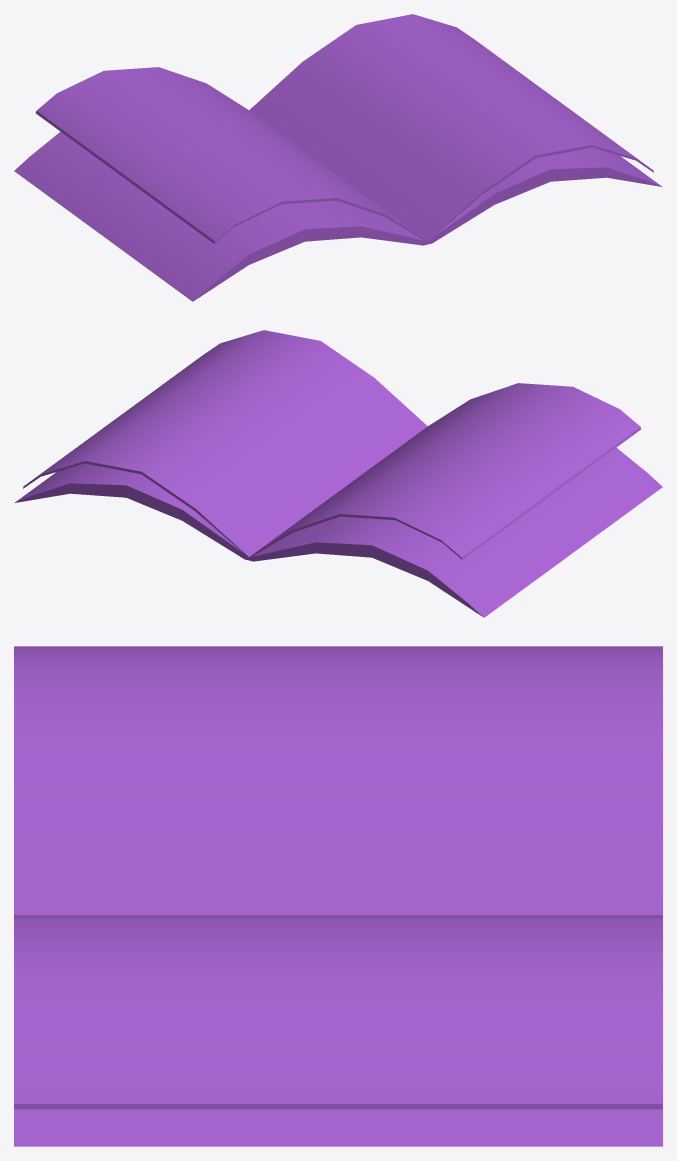
Rendered from Cuaderno 1 Abierto.fbx.
3 views of the same model, one above another, from view 1: azimuth 30°, elevation 25°; view 2: azimuth 150°, elevation 25°; view 3: azimuth 270°, elevation 25° (orthographic). The views are drawn at different scales.
Visible parts, largest first — view 1: Cuaderno_1_Abierto; view 2: Cuaderno_1_Abierto; view 3: Cuaderno_1_Abierto.
Boxes of the visible parts, x1,y1,x2,y2 form: Cuaderno_1_Abierto: (14,14,662,301); Cuaderno_1_Abierto: (14,330,662,617); Cuaderno_1_Abierto: (14,646,662,1146).
Size of the model in its own units: 0.3509 by 0.0559 by 0.2311.
